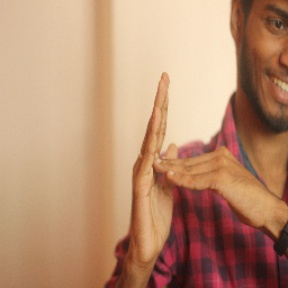Z: (122, 67, 272, 260)
